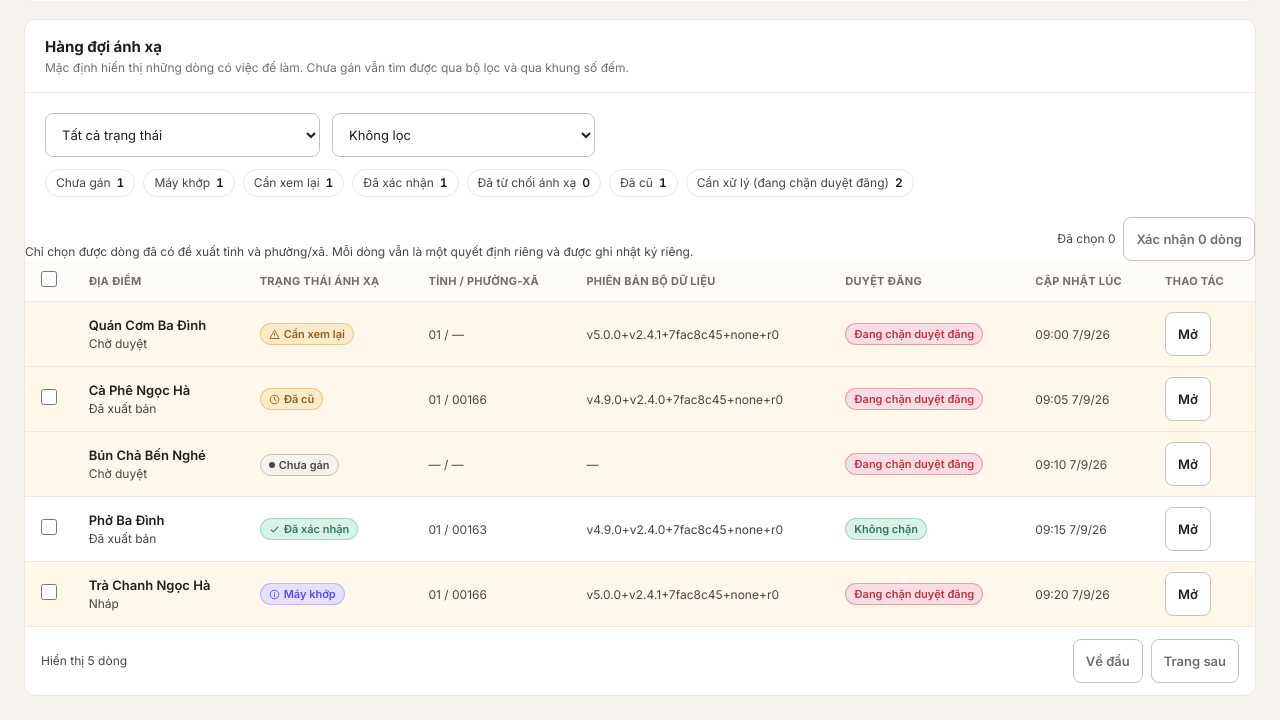
what each role may do › gives a moderator exactly approve and reject on a proposal
This screenshot has width=1280, height=720.
(page scrolled)
Click the button "Mở" in the row of "Trà Chanh Ngọc Hà" at (1188, 594), box 1165,572 -> 1211,616
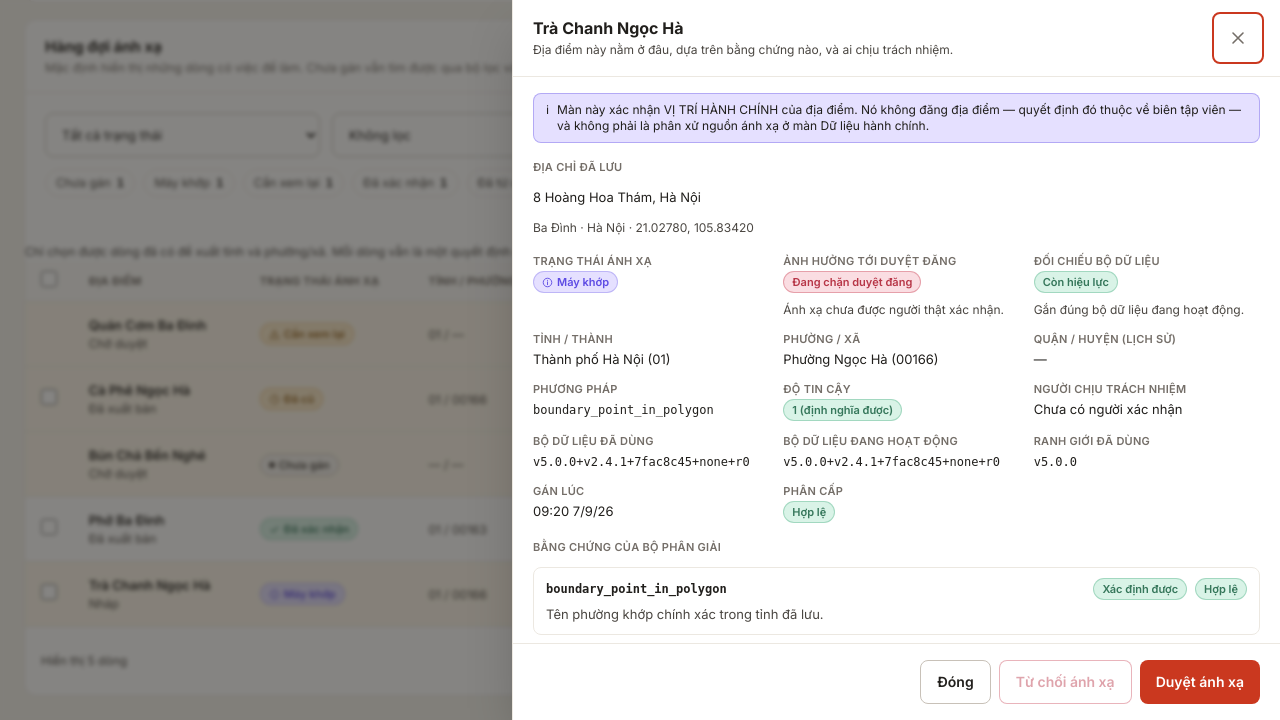
expect the button "Duyệt ánh xạ" is shown: met, box 1140,660 -> 1260,704
expect the button "Từ chối ánh xạ" is shown: met, box 999,660 -> 1132,704
